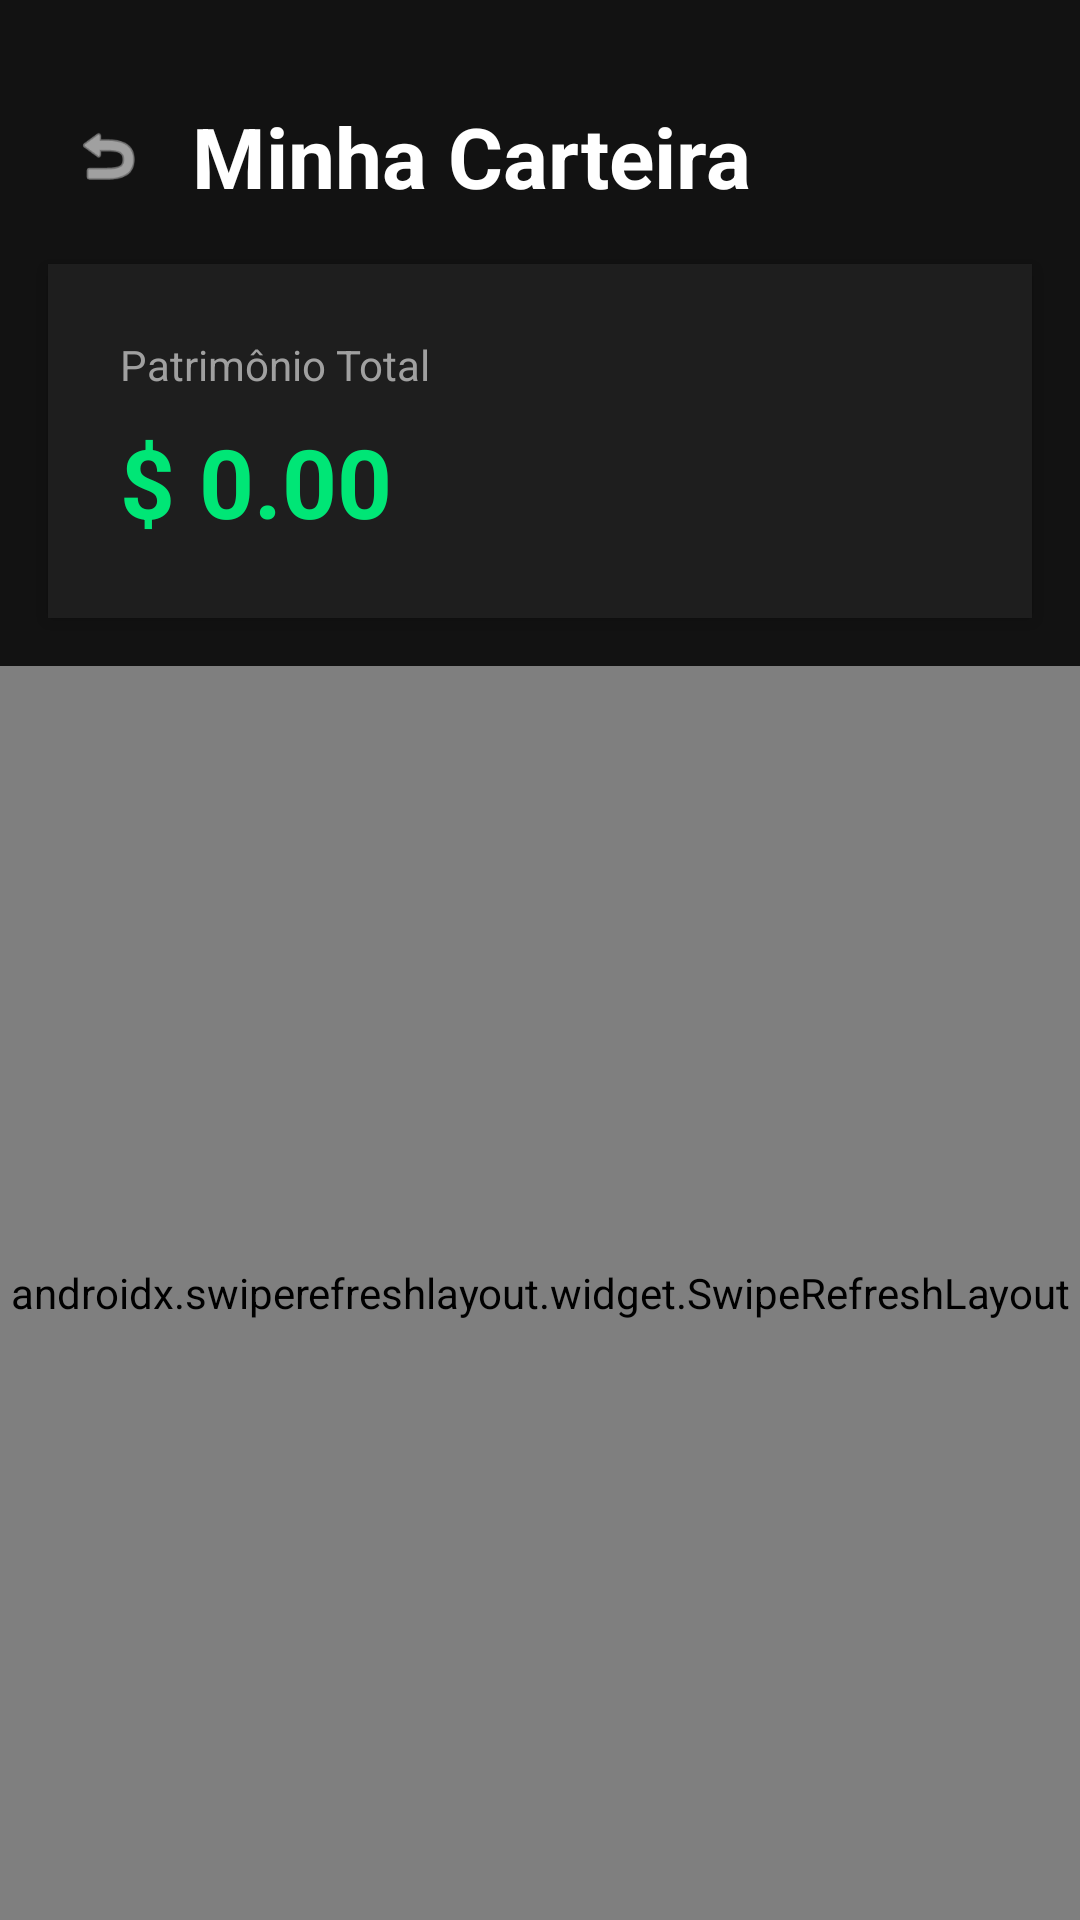

Where icons sit on this 1080 × 1920 app screen, as rect(x1, y1, x2, y2):
revert: rect(83, 133, 135, 180)
